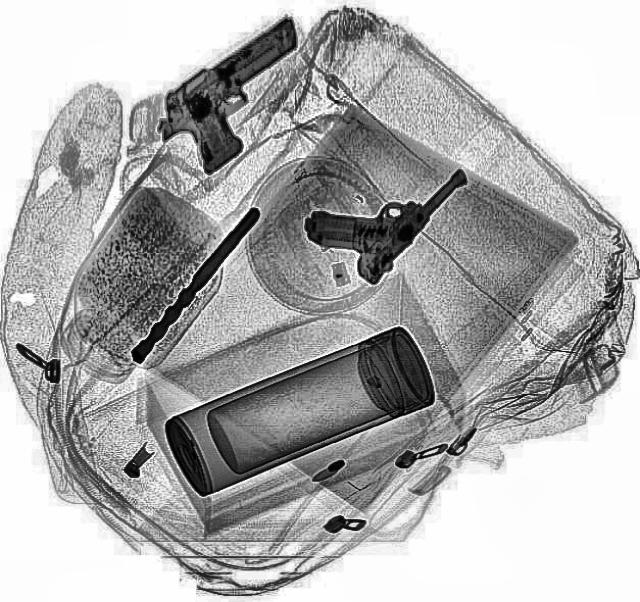Gun: (139, 13, 347, 179), (291, 120, 473, 288)
